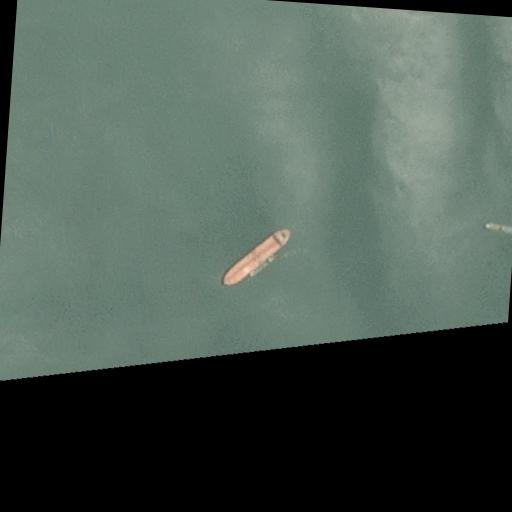ship: (222, 222, 290, 290)
